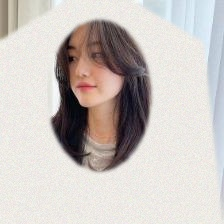Mukena: (0, 20, 211, 224)
